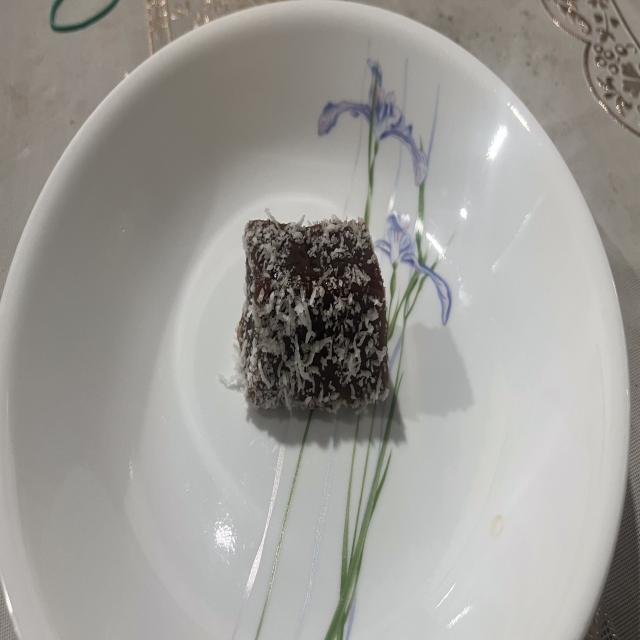kaswi: (236, 216, 389, 411)
